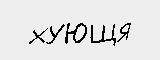У: (47, 24, 68, 45)
Х: (27, 26, 48, 47)
Щ: (88, 22, 117, 45)
Ю: (63, 22, 88, 48)
Я: (116, 22, 134, 44)
